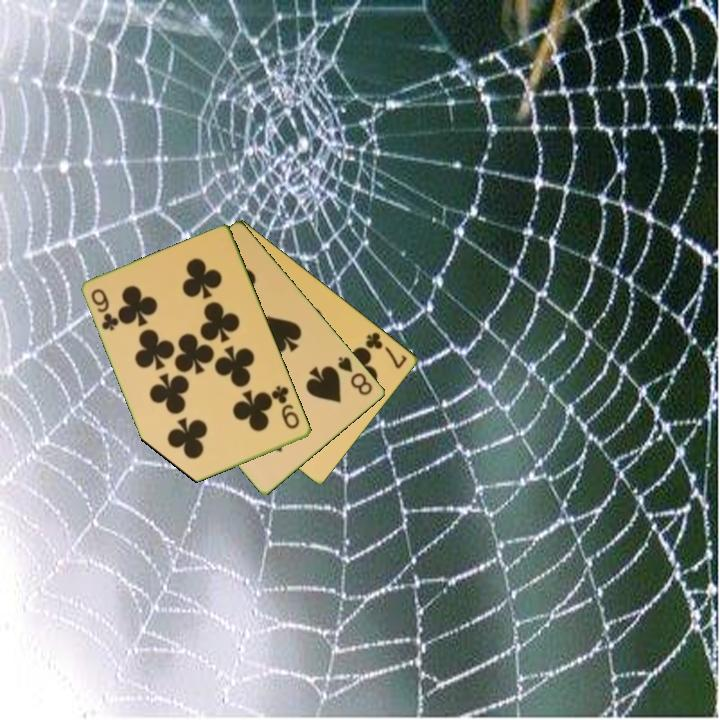7c: (362, 328, 410, 372)
8s: (334, 353, 376, 399)
9c: (268, 382, 303, 432), (88, 285, 122, 334)
